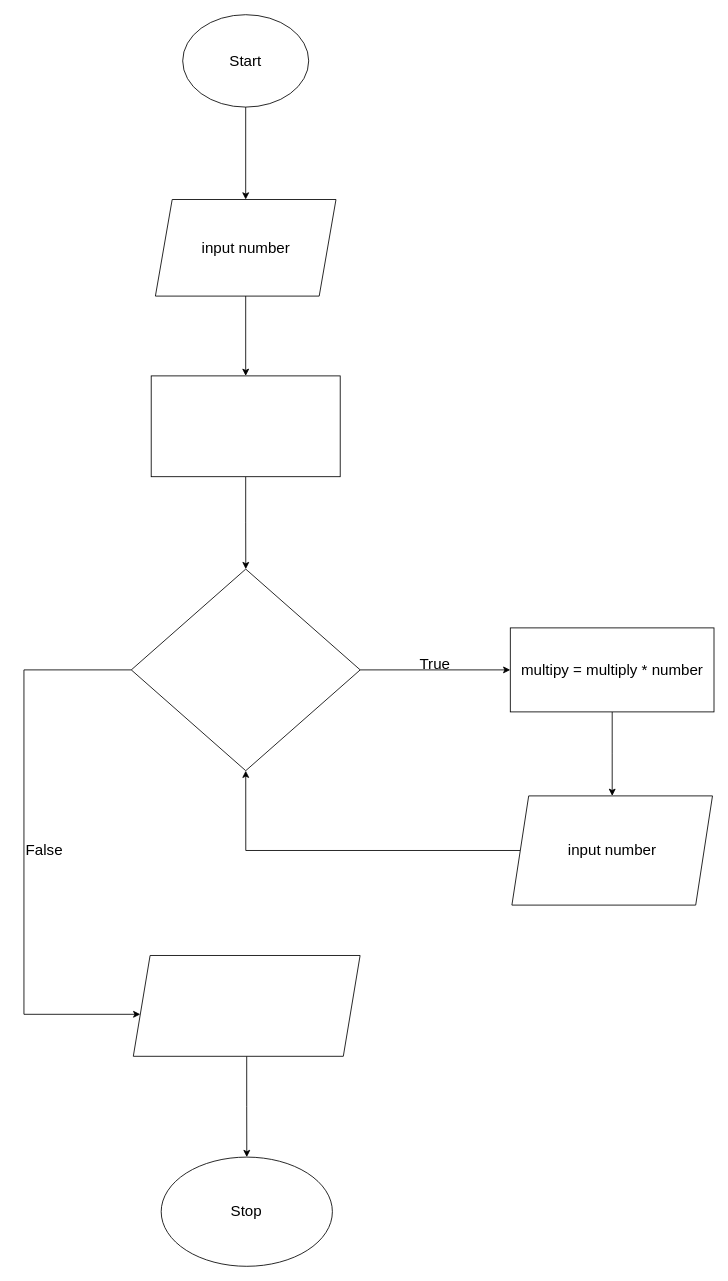
The diagram is 728 pixels wide and 1281 high, and some of its shapes have lost their labels. The shapes that lost their labels are listed below. From the top down, each one's centre as x and y in pixels, then its label:
the point at 245,426: multipy = 1
the point at 245,669: if number != 'x'
the point at 246,1005: Output multiply
